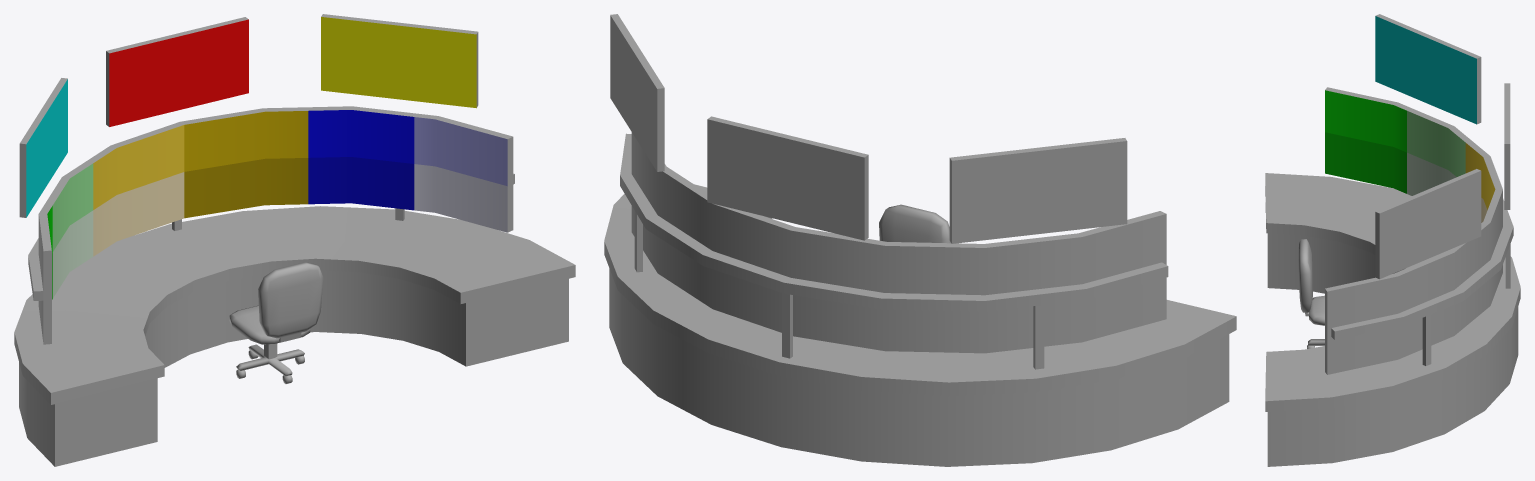
Rendered from Control_Room_new.fbx.
The picture shows the model from 3 angles, left to right: view 1: azimuth 30°, elevation 25°; view 2: azimuth 150°, elevation 25°; view 3: azimuth 270°, elevation 25°; orthographic projection. The views are drawn at different scales.
Visible parts, largest first — view 1: ControlRoom, Top_right_screen, Top_mid_screen, Chair, Main_Screen2_2, Main_Screen2_4, Main_Screen3_1, Main_Screen3_3, Main_Screen3_2, Main_Screen3_4, Main_Screen2_1, Main_Screen2_3 (+3 smaller); view 2: ControlRoom, Chair; view 3: ControlRoom, Top_left_screen, Main_Screen1_1, Main_Screen1_3, Main_Screen1_2, Chair, Main_Screen1_4, Main_Screen2_1.
Boxes of the visible parts, left/top/right/bottom form: ControlRoom: left=14, top=14, right=575, bottom=466; Top_right_screen: left=321, top=17, right=476, bottom=108; Top_mid_screen: left=109, top=19, right=248, bottom=126; Chair: left=229, top=262, right=323, bottom=383; Main_Screen2_2: left=184, top=111, right=308, bottom=171; Main_Screen2_4: left=184, top=158, right=308, bottom=218; Main_Screen3_1: left=308, top=110, right=414, bottom=163; Main_Screen3_3: left=308, top=157, right=414, bottom=210; Main_Screen3_2: left=414, top=117, right=507, bottom=186; Main_Screen3_4: left=414, top=164, right=507, bottom=232; Main_Screen2_1: left=93, top=125, right=184, bottom=209; Main_Screen2_3: left=93, top=172, right=184, bottom=256; ControlRoom: left=604, top=14, right=1236, bottom=466; Chair: left=879, top=204, right=950, bottom=243; ControlRoom: left=1265, top=14, right=1520, bottom=466; Top_left_screen: left=1375, top=16, right=1476, bottom=124; Main_Screen1_1: left=1325, top=90, right=1406, bottom=152; Main_Screen1_3: left=1325, top=132, right=1406, bottom=193; Main_Screen1_2: left=1407, top=111, right=1465, bottom=176; Chair: left=1298, top=239, right=1324, bottom=348; Main_Screen1_4: left=1407, top=153, right=1456, bottom=195; Main_Screen2_1: left=1465, top=143, right=1495, bottom=209.
Size of the model in its own units: 3.6 by 1.78 by 1.7.
